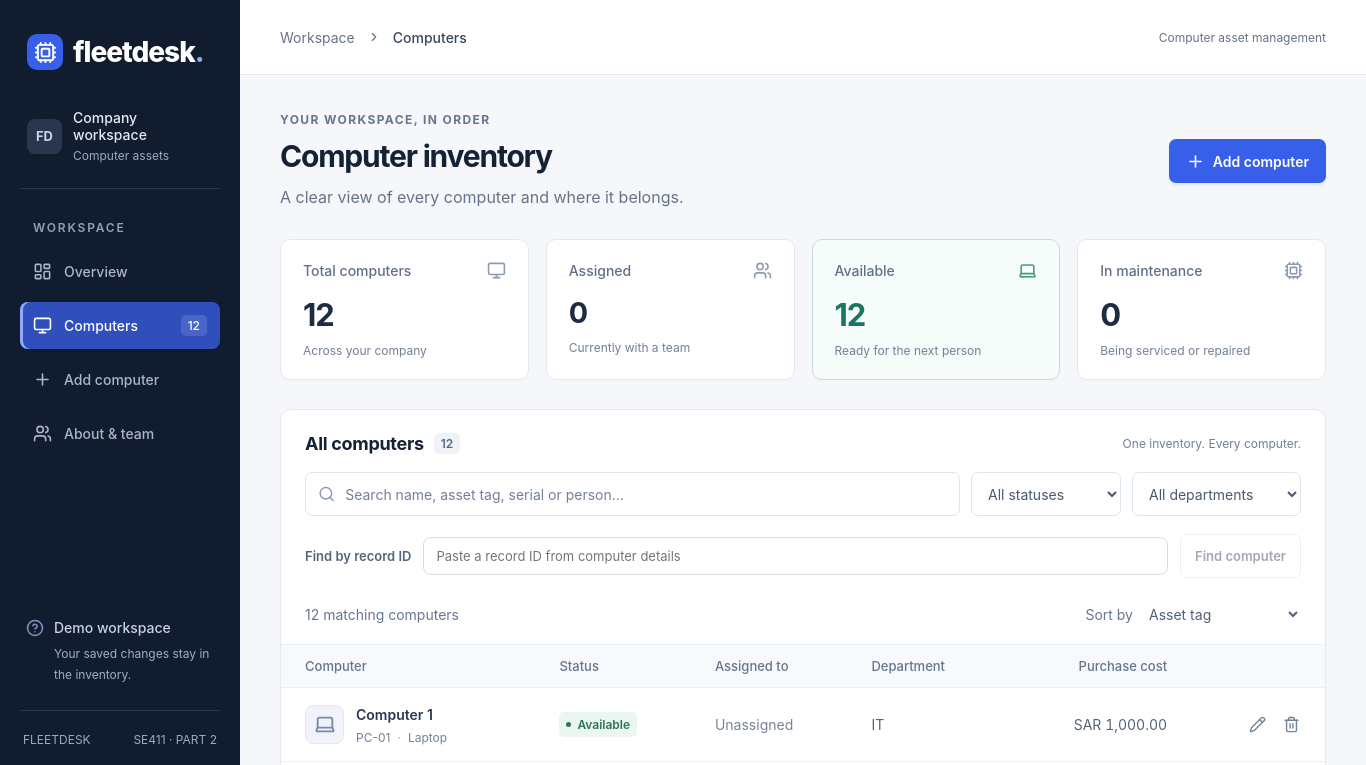
Test: Frontend + HTTP integration › shows duplicate errors returned by the backend, including records on other pages
Expected: the button with aria-label "View PC-01 details" is shown, [356, 704, 433, 727]
Click the button named "Edit PC-01" at x=1257, y=724, box [1241, 707, 1273, 741]
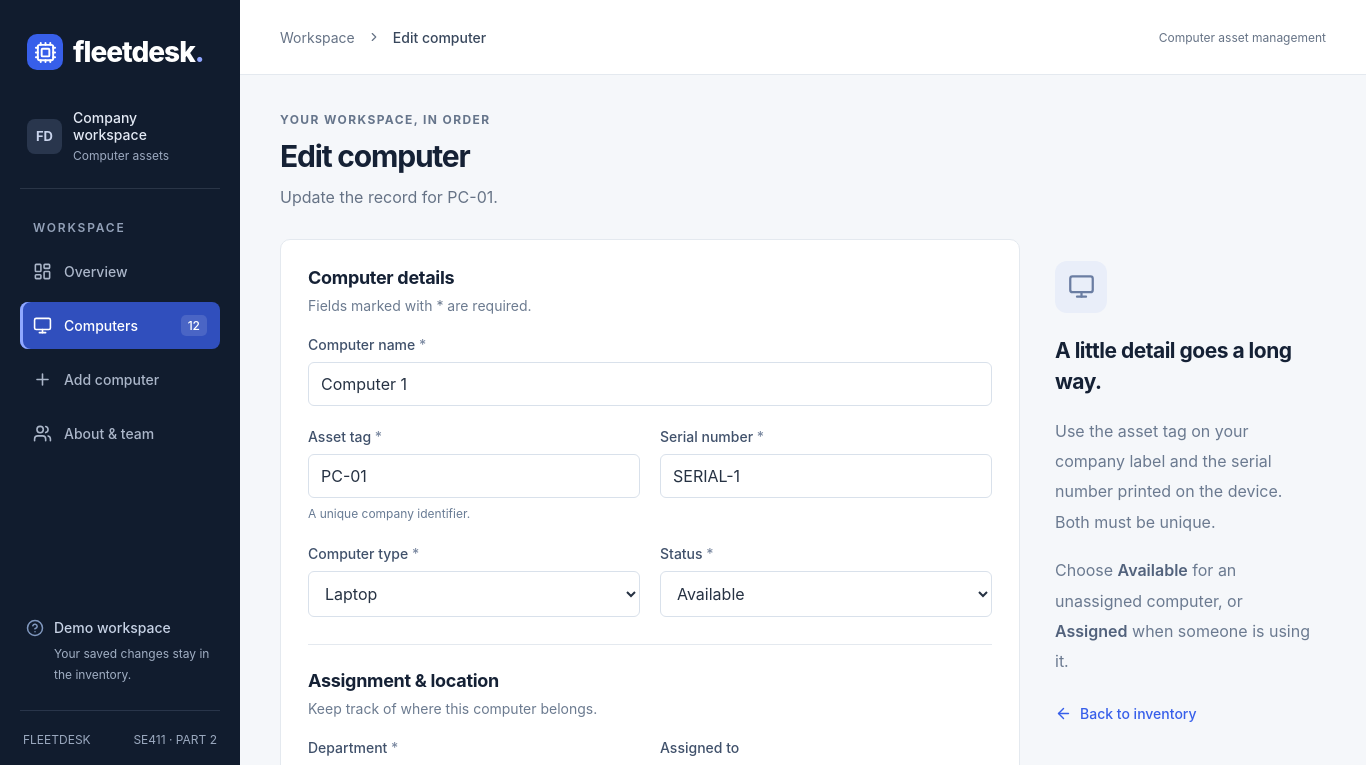
Replace the text in the field labelled "Asset tag" with "PC-12" at x=474, y=476, box [308, 454, 640, 498]
(page scrolled)
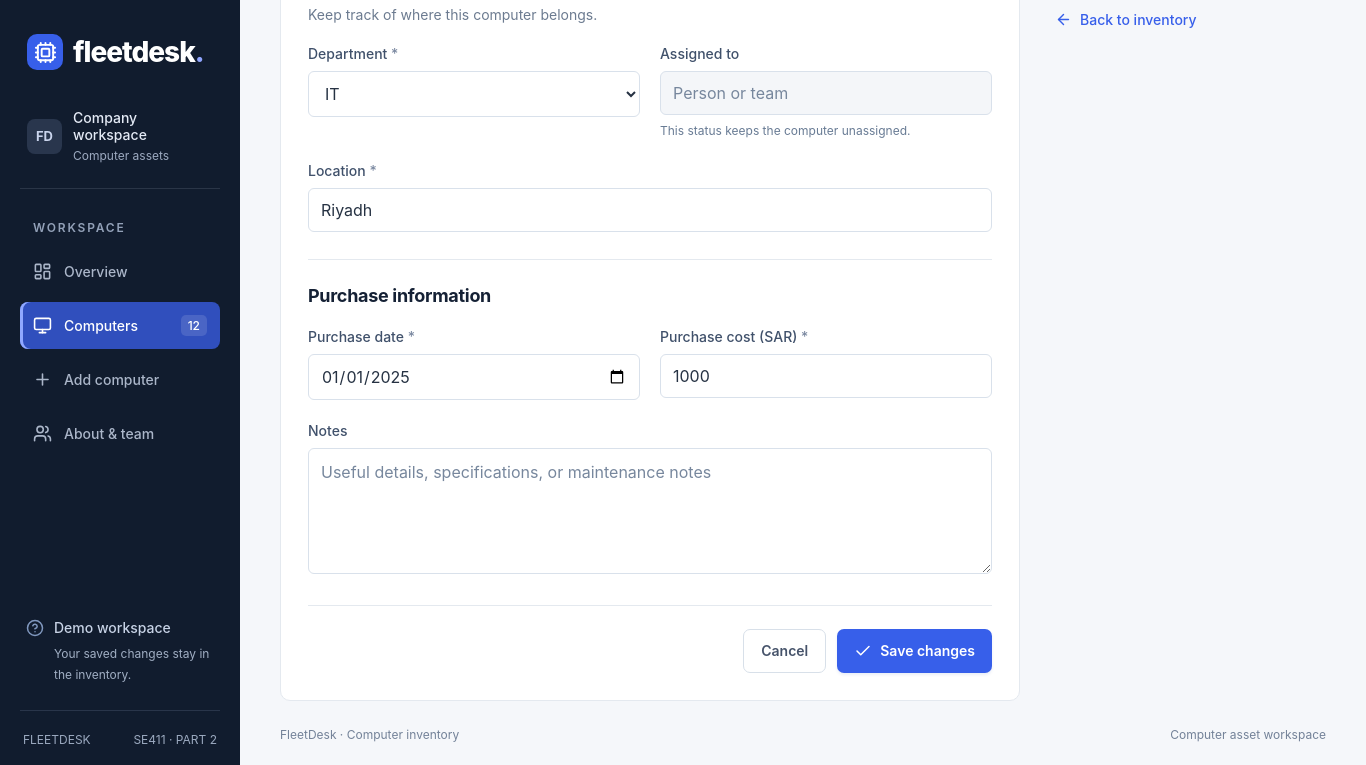
Click the button "Save changes" at x=915, y=651, box [837, 629, 992, 673]
(page scrolled)
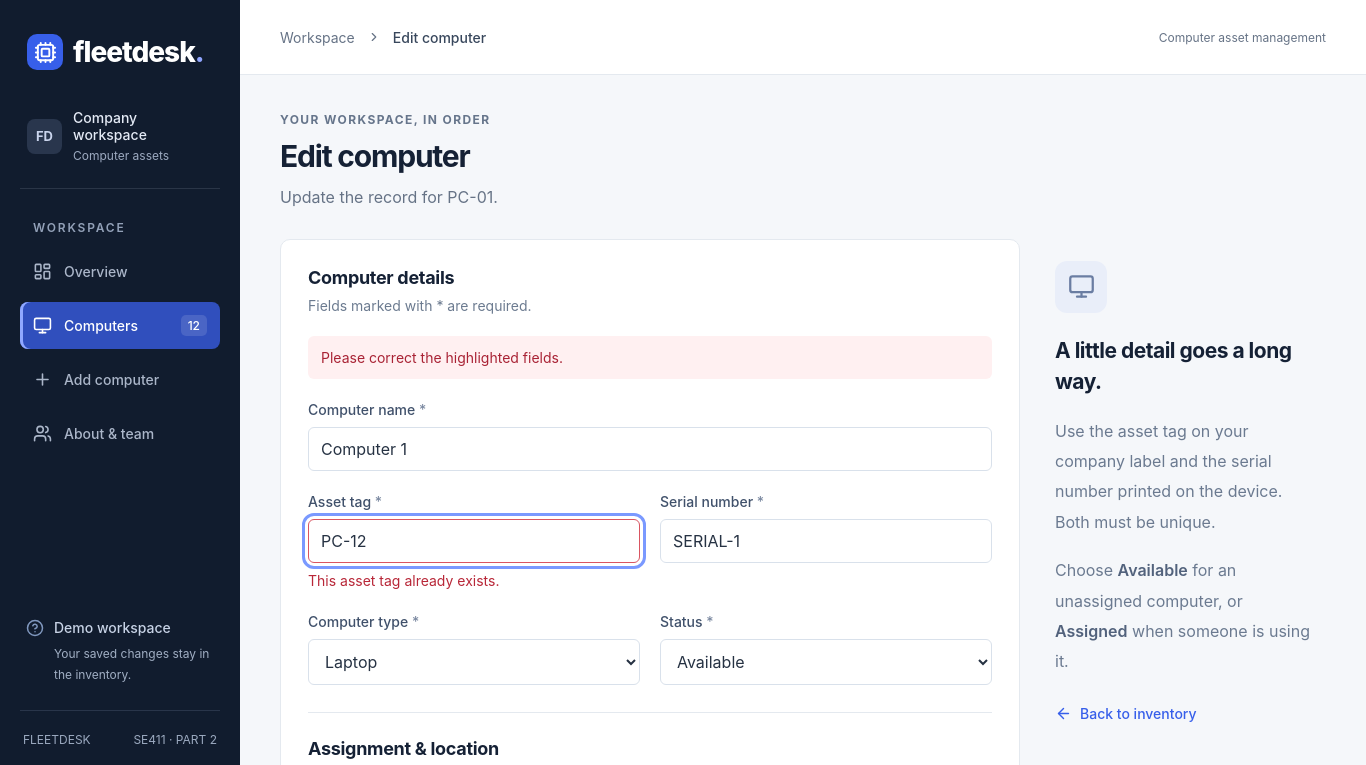
Expected: the heading "Edit computer" is shown, [280, 137, 498, 176]
Expected: the text "This asset tag already exists." is shown, [308, 572, 499, 589]
